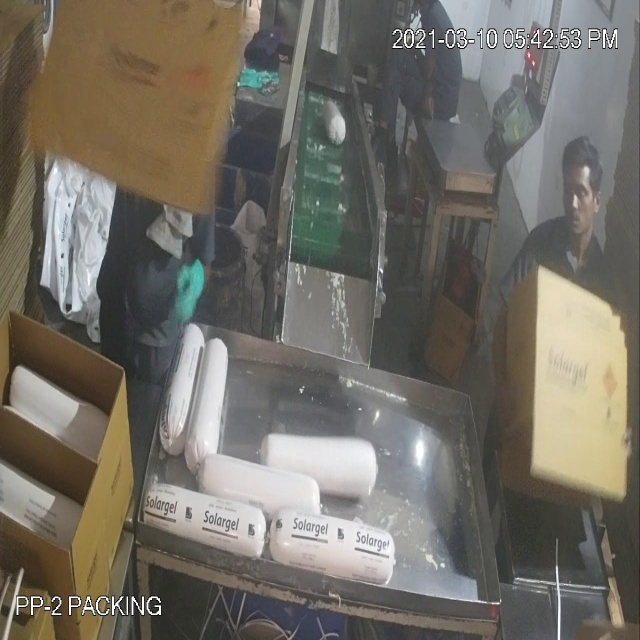Guantes: (172, 244, 211, 342)
Sin_guantes: (474, 282, 525, 463)
